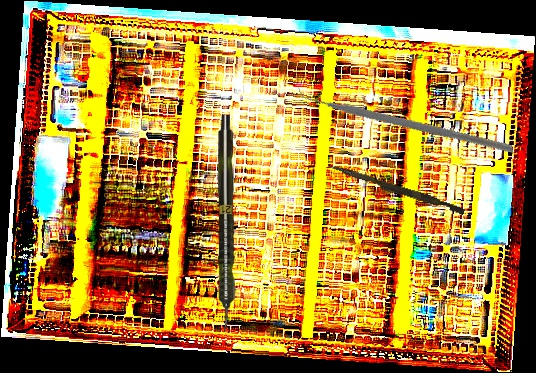Chopper: (295, 20, 514, 211)
Handpiece: (216, 115, 235, 332)
Pusher: (325, 163, 467, 215)
